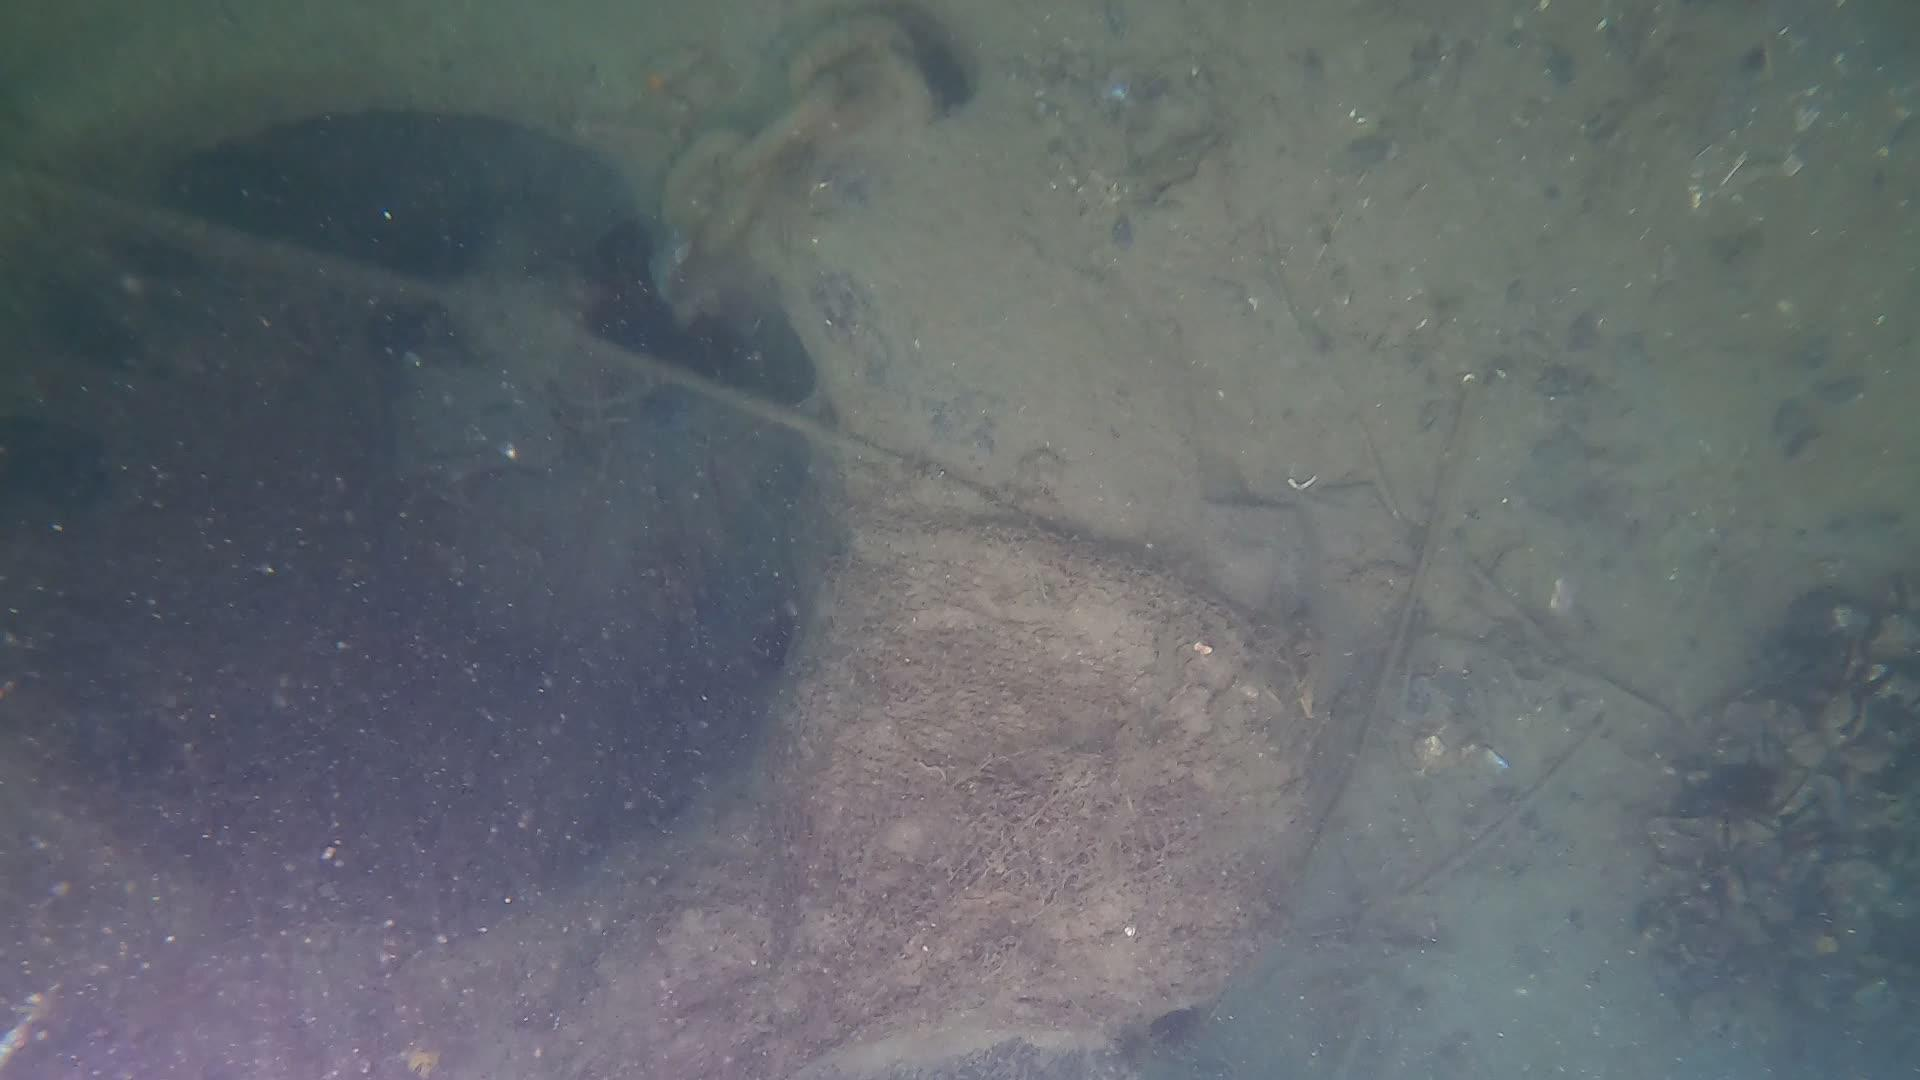fish net: (767, 510, 1298, 930)
tire: (0, 0, 1212, 1080)
